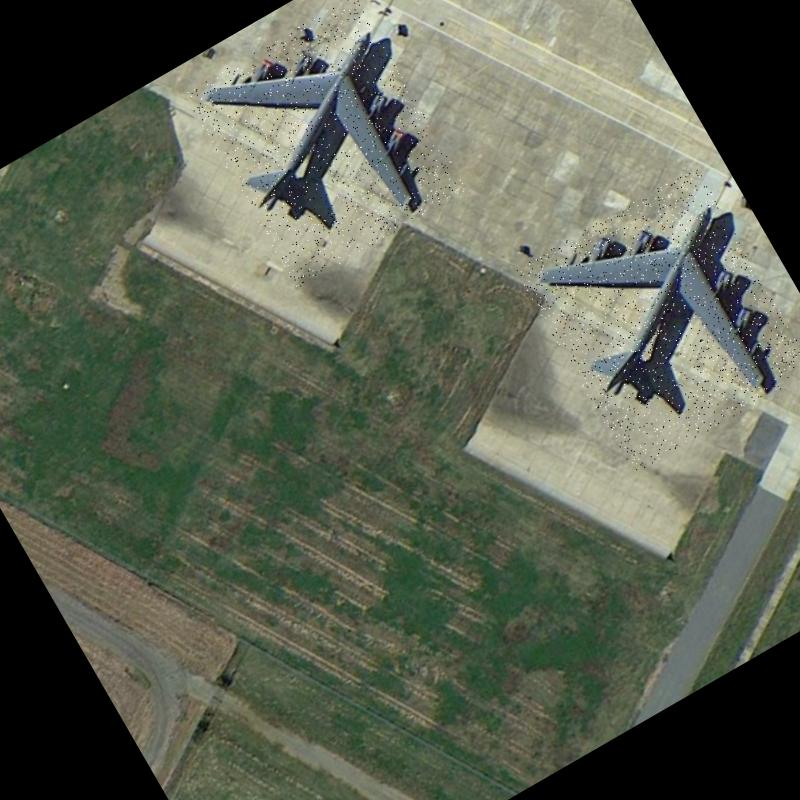A8: (515, 165, 800, 474), (184, 0, 468, 289)
